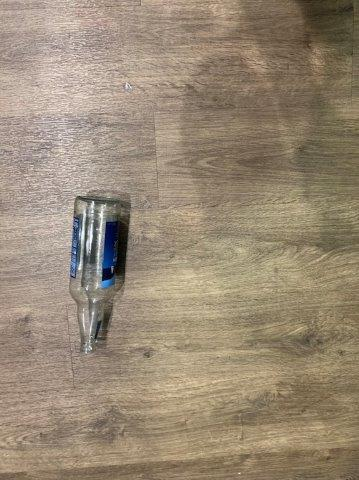botolkaca: (70, 196, 120, 353)
